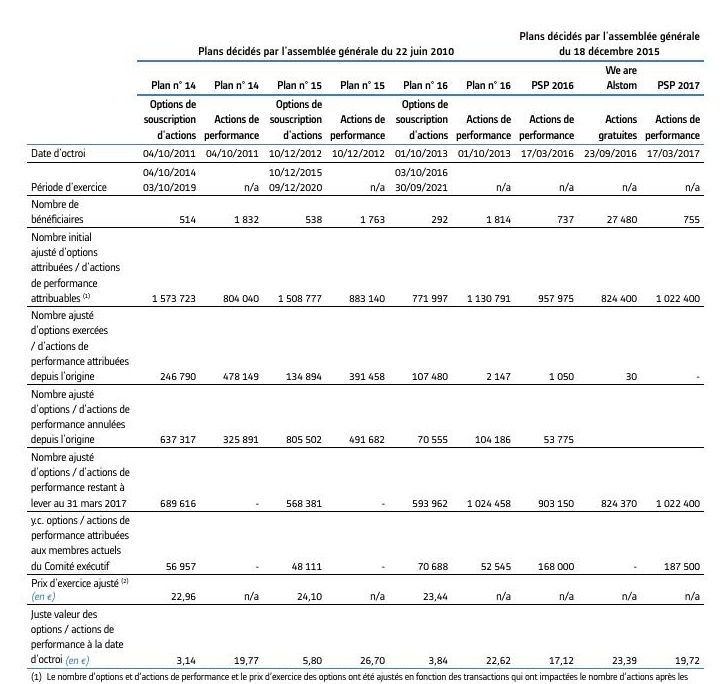table: (0, 0, 726, 684)
